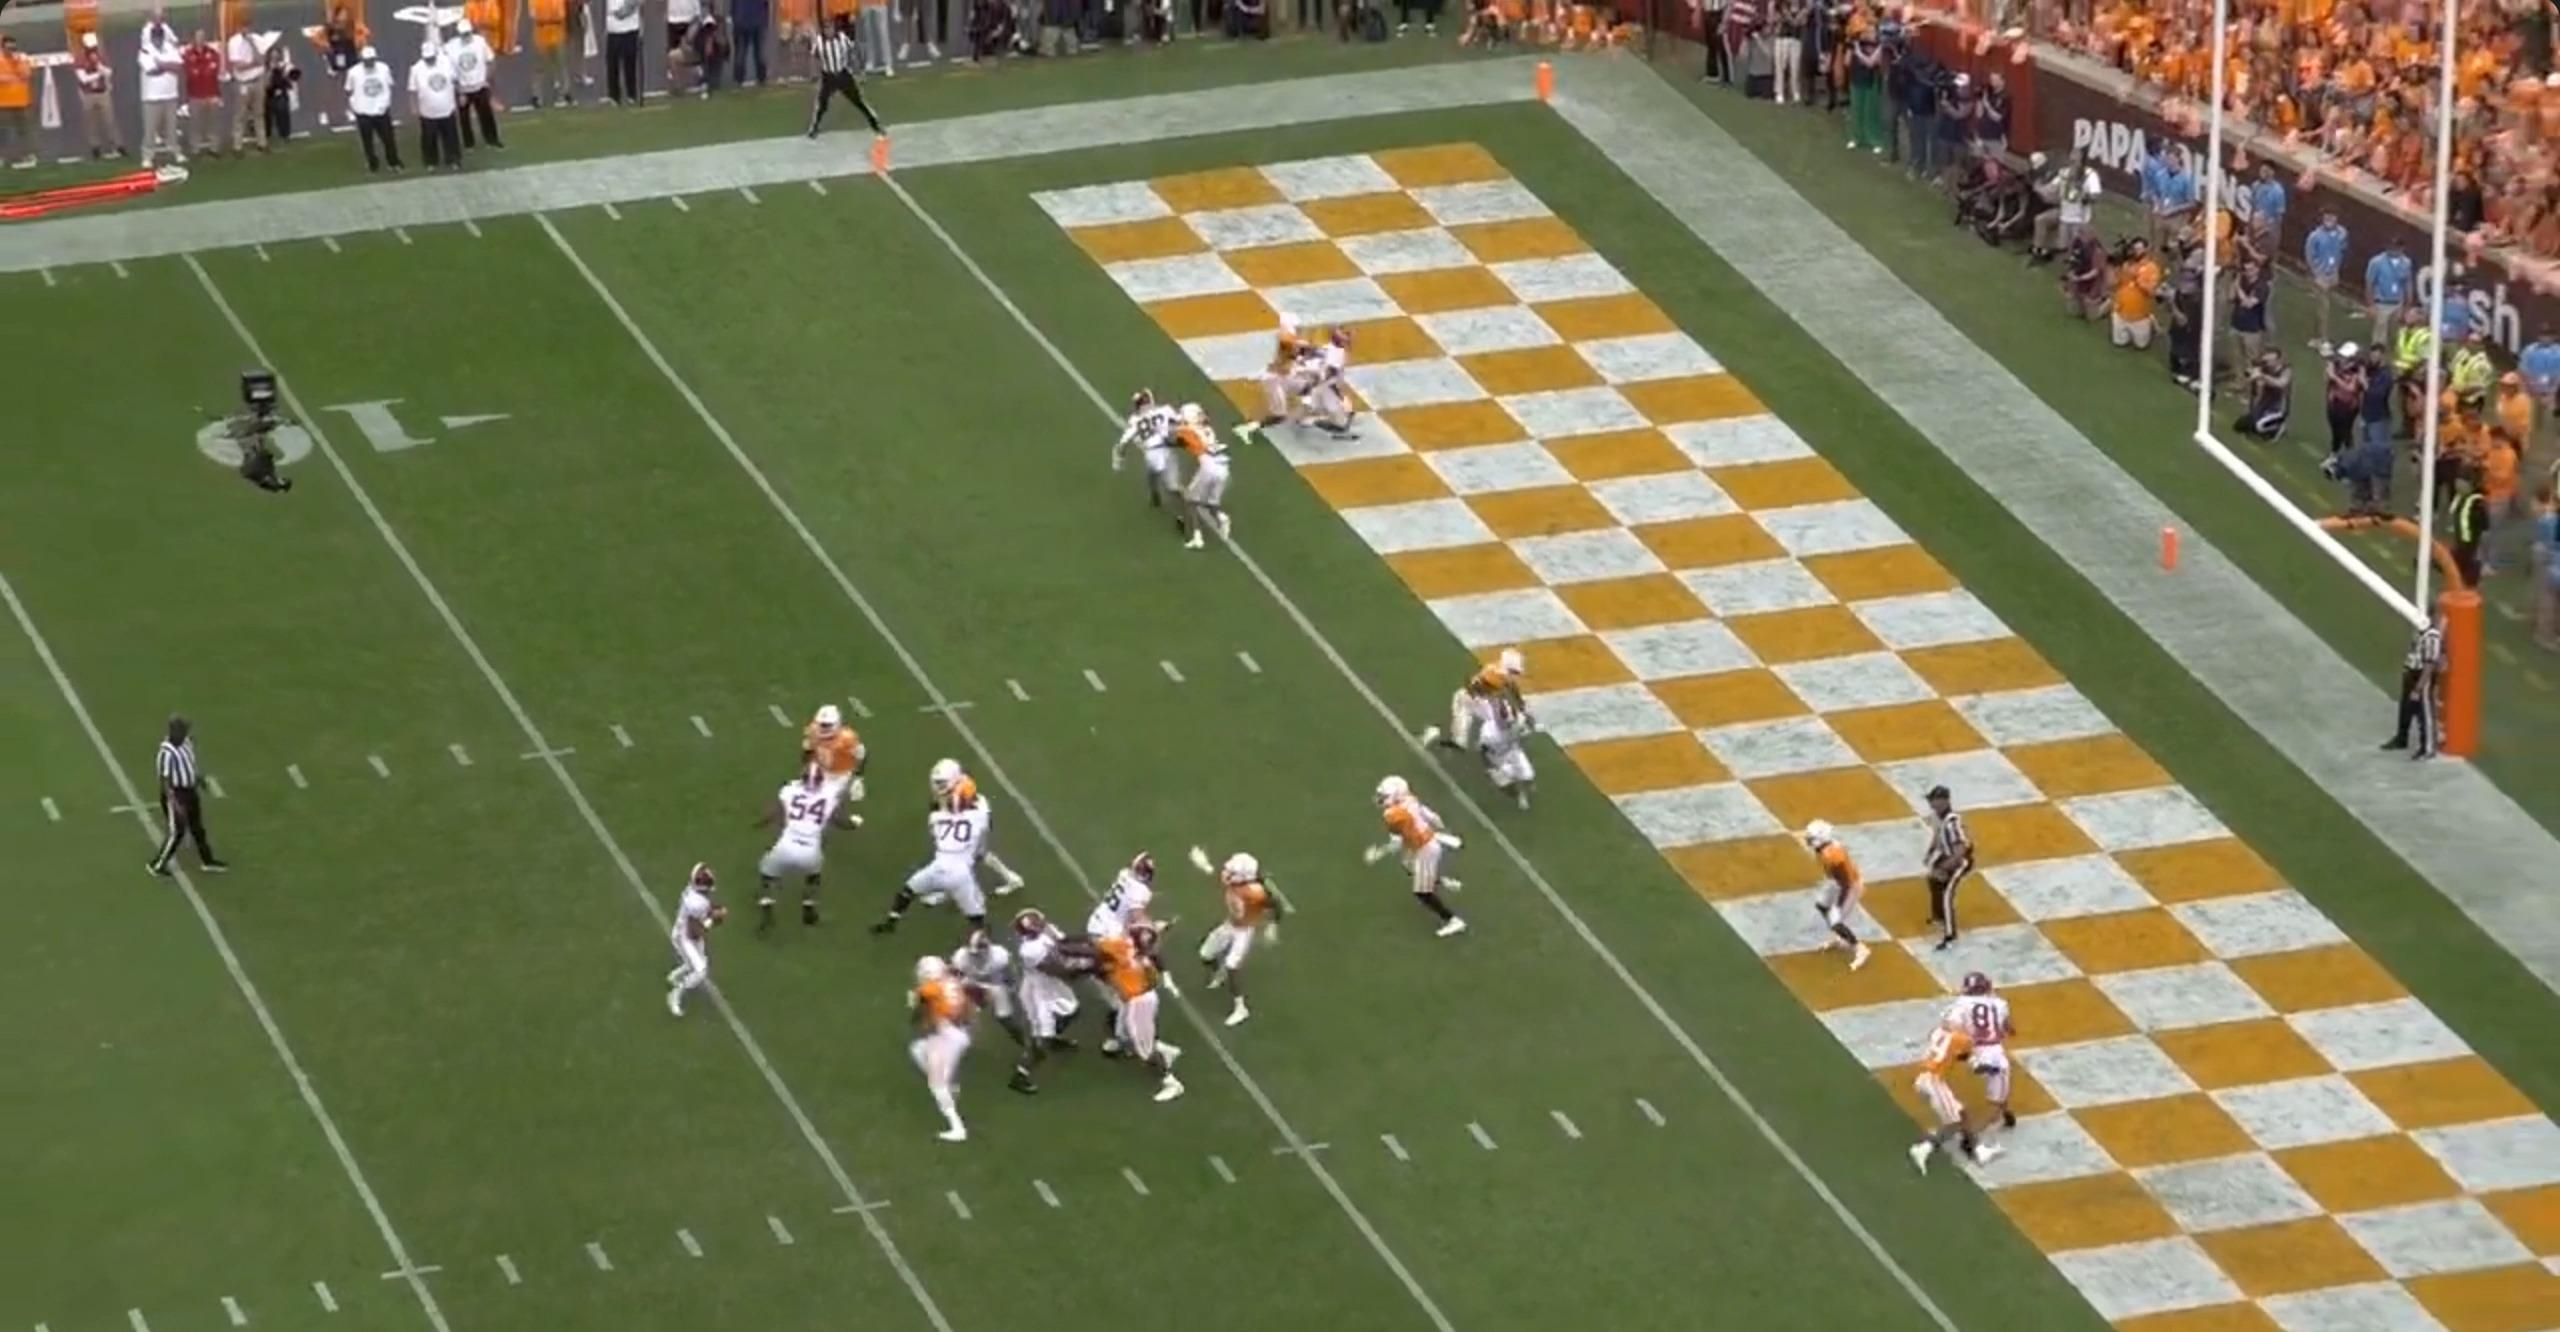player: (1924, 969, 2024, 1171), (898, 947, 997, 1148), (880, 796, 1005, 946), (1364, 775, 1470, 949), (1200, 843, 1299, 1029), (742, 763, 847, 933), (1096, 918, 1188, 1103), (1003, 901, 1089, 1094), (1896, 995, 1983, 1175), (928, 758, 1025, 907), (1789, 814, 1875, 970), (661, 852, 739, 1022), (1417, 636, 1519, 756), (1103, 381, 1182, 528), (1162, 402, 1231, 557), (924, 932, 1030, 1032), (1474, 686, 1549, 818), (1253, 311, 1320, 452), (803, 709, 877, 835), (1102, 851, 1182, 959), (1308, 324, 1364, 440), (1121, 904, 1172, 962)
ref: (150, 715, 227, 887), (2380, 603, 2457, 765), (806, 17, 896, 150), (1906, 776, 1972, 955)
